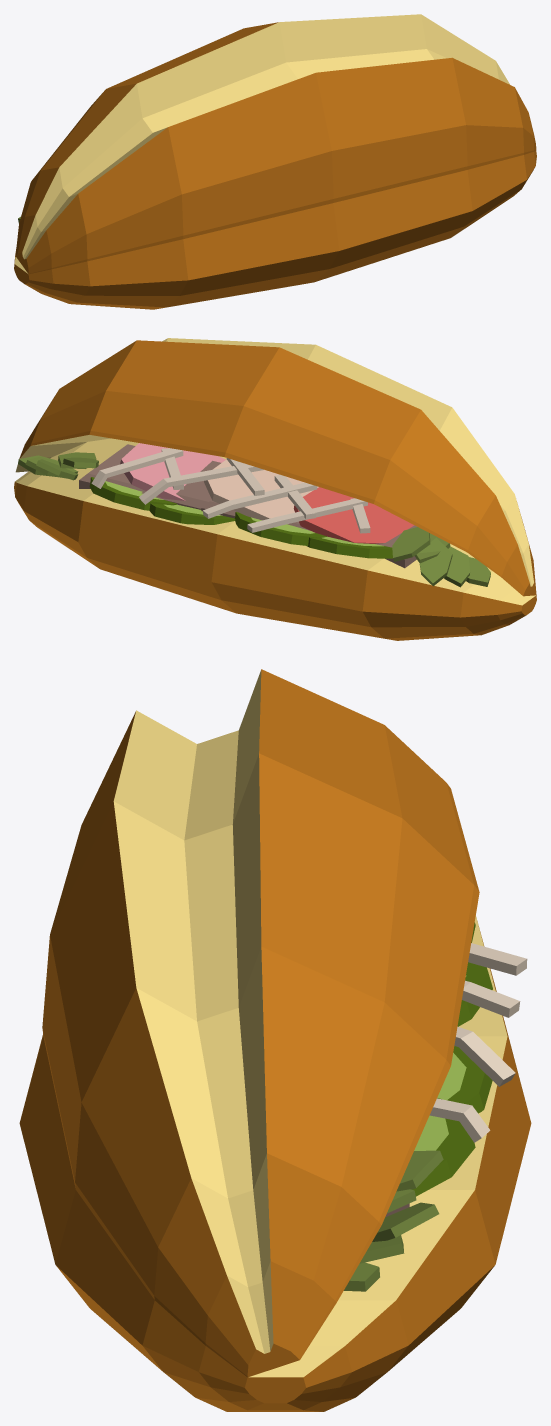
Rendered from SM_Cook_BanhMi_Filled_01.fbx.
The picture shows the model from 3 angles, top to bottom: view 1: azimuth 30°, elevation 25°; view 2: azimuth 150°, elevation 25°; view 3: azimuth 270°, elevation 25°; orthographic projection. The views are drawn at different scales.
Visible parts, largest first — view 1: SM_Cook_BanhMi_Filled_01; view 2: SM_Cook_BanhMi_Filled_01; view 3: SM_Cook_BanhMi_Filled_01.
Boxes of the visible parts, x1=… form: SM_Cook_BanhMi_Filled_01: x1=14, y1=14, x2=536, y2=309; SM_Cook_BanhMi_Filled_01: x1=14, y1=338, x2=536, y2=640; SM_Cook_BanhMi_Filled_01: x1=19, y1=669, x2=531, y2=1411.
Size of the model in its own units: 0.24 by 0.1124 by 0.1048.
1 material, 1 textured.
